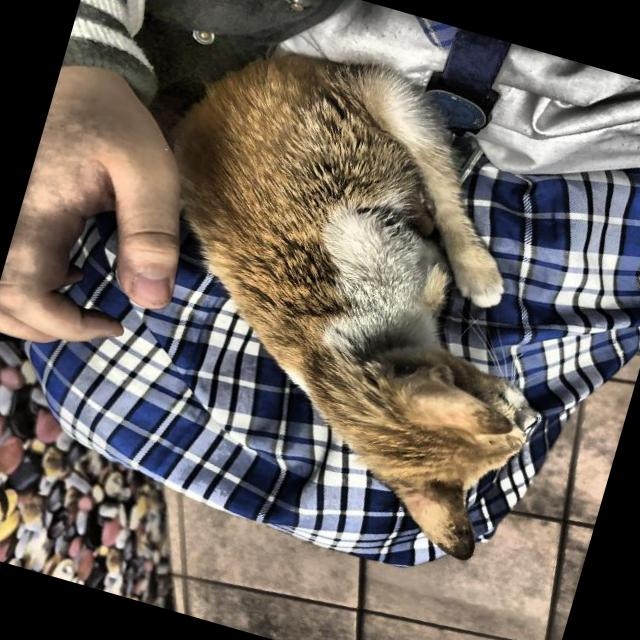Healthy skin: (239, 136, 412, 312)
